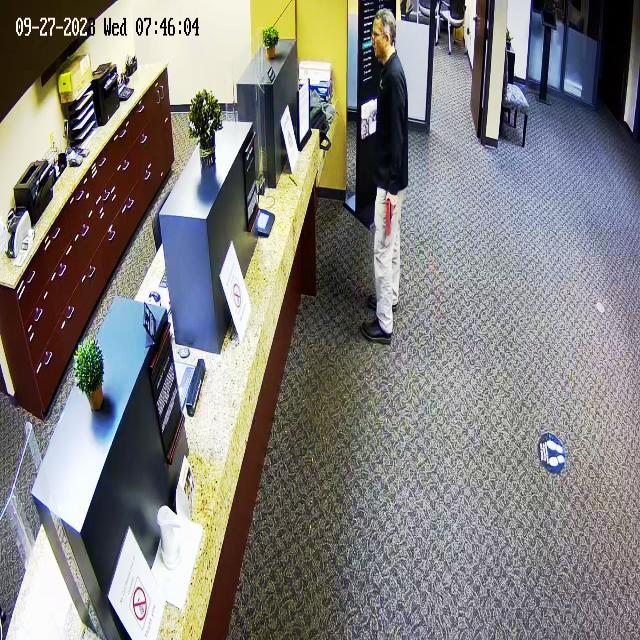Gun: (378, 192, 402, 244)
